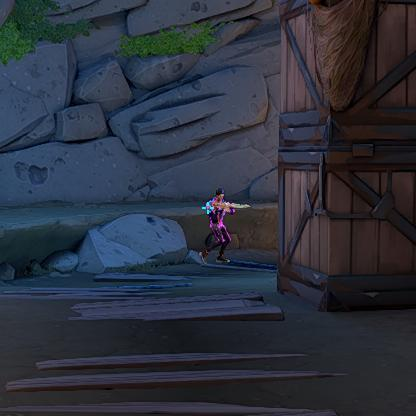enemyBody: (212, 202, 222, 220)
enemyHead: (217, 192, 222, 200)
